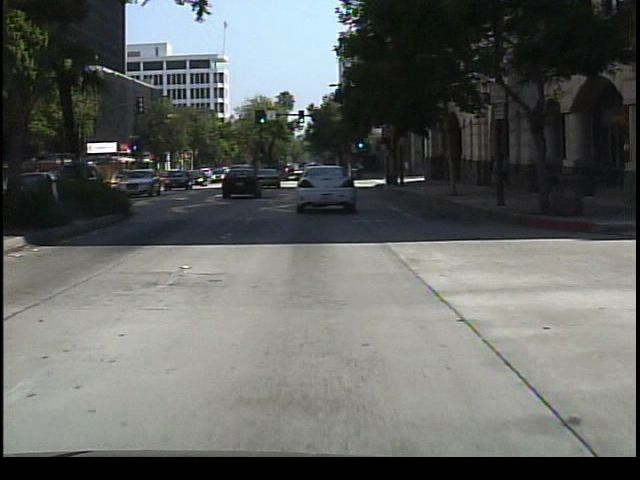person: (493, 151, 513, 202)
